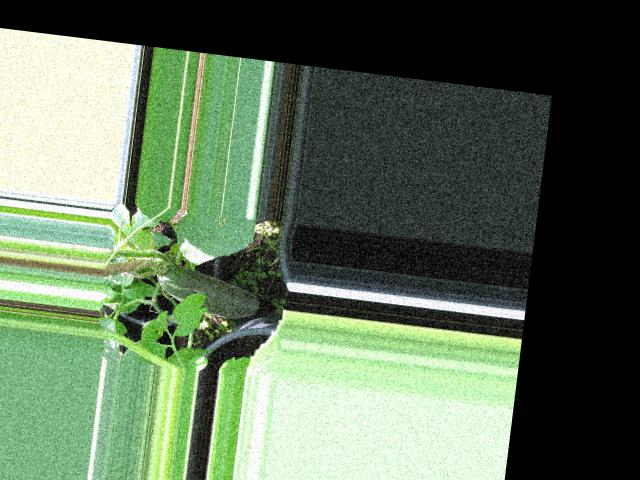cucumber: (154, 262, 262, 321)
